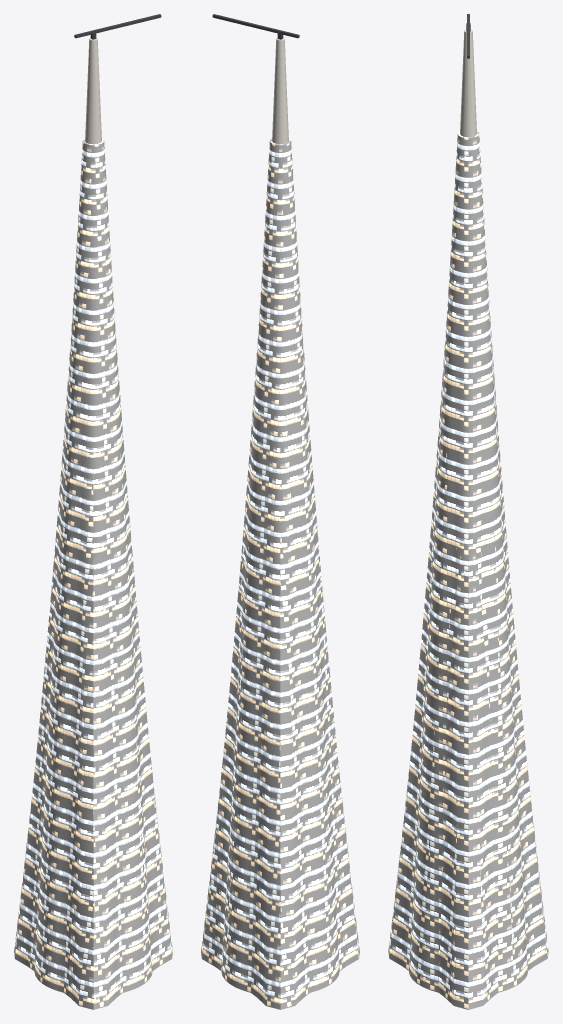
Rendered from SM_JeddahTower.fbx.
3 renders of one model, left to right at view 1: azimuth 30°, elevation 25°; view 2: azimuth 150°, elevation 25°; view 3: azimuth 270°, elevation 25°, orthographic.
Visible parts, largest first — view 1: SM_JeddahTower; view 2: SM_JeddahTower; view 3: SM_JeddahTower.
Part boxes in pixels (bbox=[...]): SM_JeddahTower: bbox=[14, 14, 172, 1009]; SM_JeddahTower: bbox=[201, 14, 359, 1009]; SM_JeddahTower: bbox=[388, 14, 548, 1009].
Size of the model in its own units: 10710 by 73600 by 11276.
